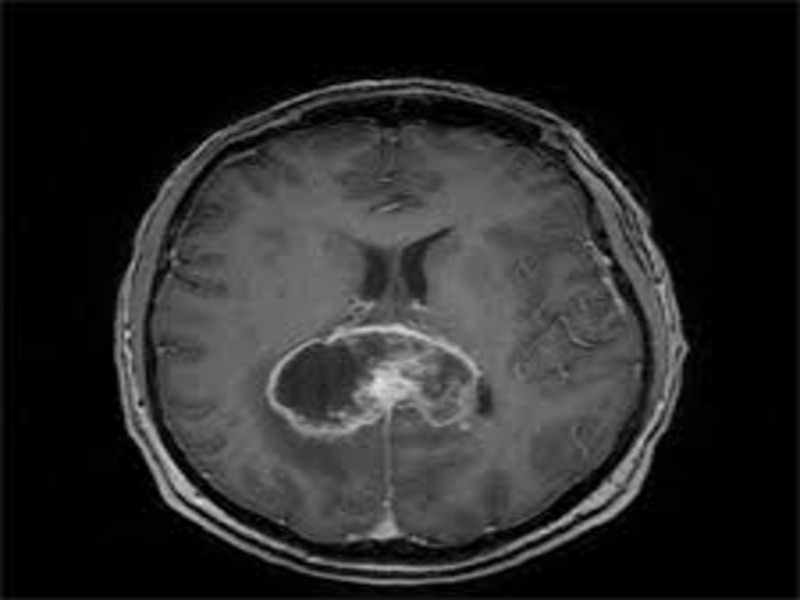tumor: (265, 321, 498, 435)
